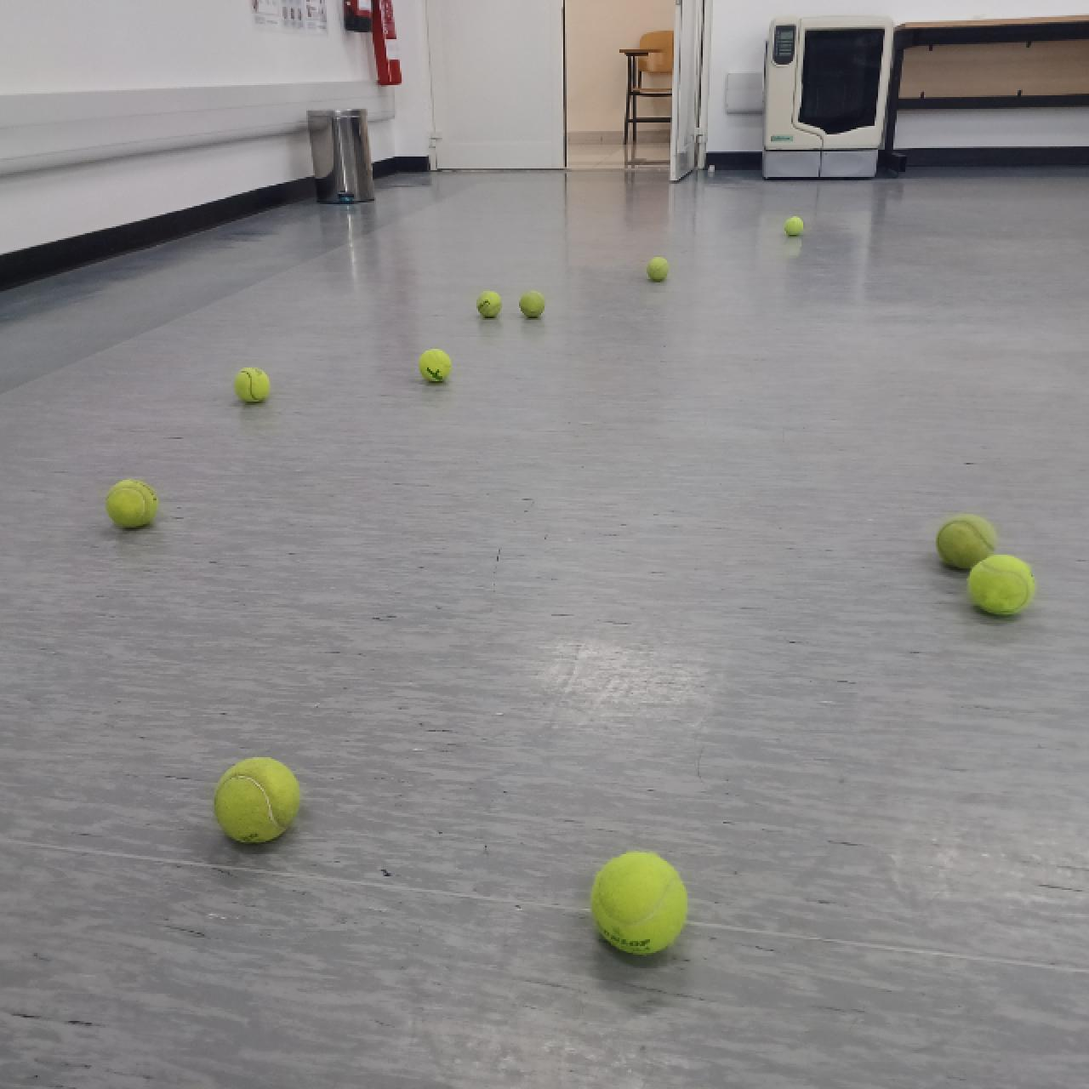tennis-ball: (590, 850, 688, 957), (213, 756, 302, 850), (966, 554, 1036, 617), (936, 514, 996, 570), (105, 478, 158, 529), (234, 366, 271, 404), (418, 347, 452, 384), (518, 289, 547, 321), (475, 289, 503, 319), (646, 255, 672, 285), (784, 215, 805, 239)
